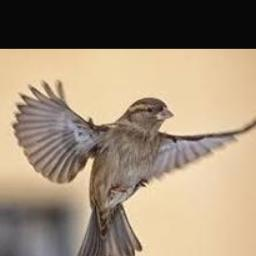Sparrow: (12, 79, 256, 256)
